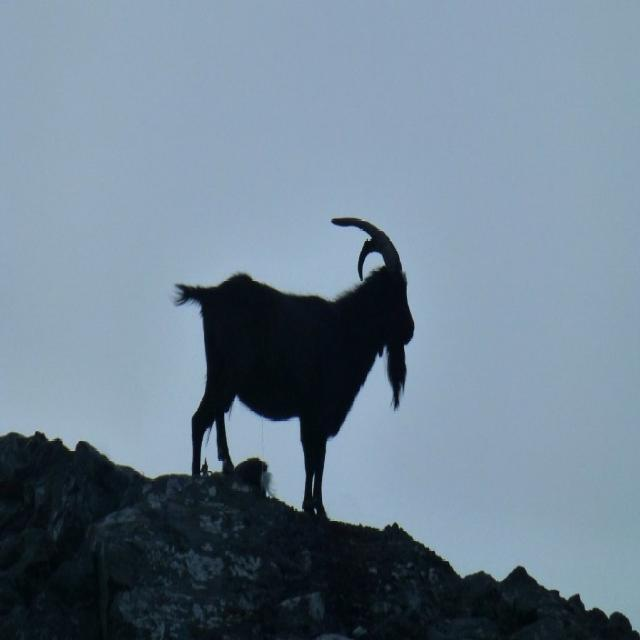Goat: (175, 214, 413, 515)
